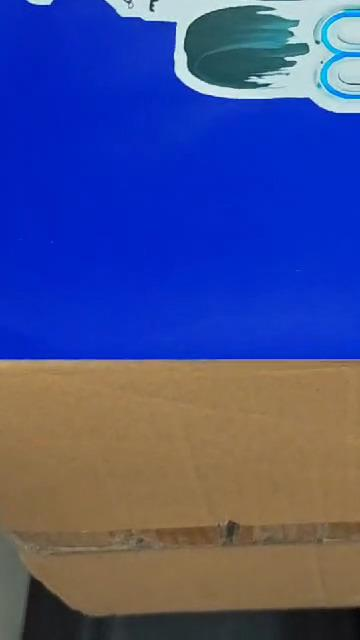B_R1: (26, 0, 360, 109)
